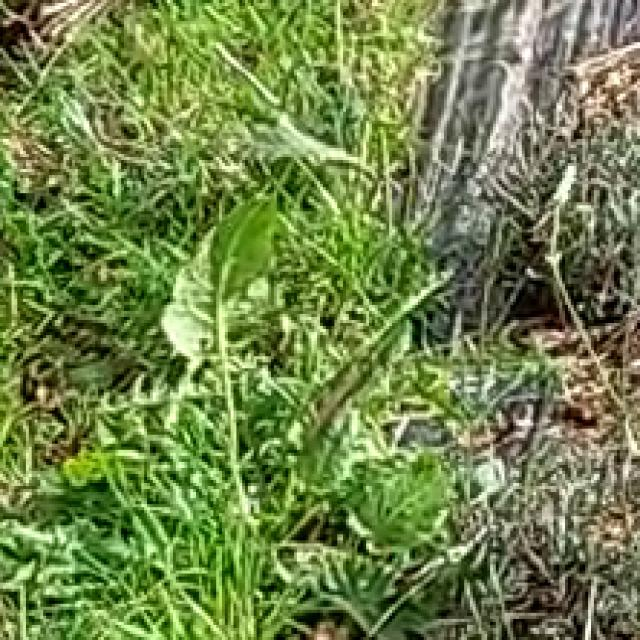organic waste: (101, 142, 404, 513)
